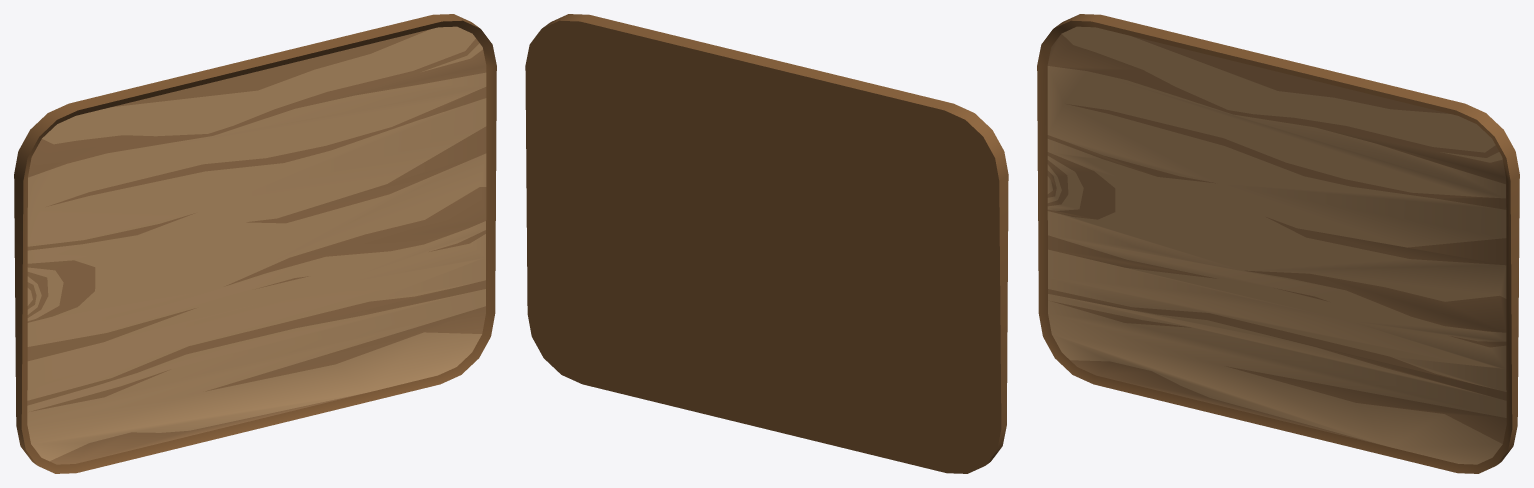
The model's file is ScoreBoard.fbx.
3 views of the same model, side by side, from view 1: azimuth 30°, elevation 25°; view 2: azimuth 150°, elevation 25°; view 3: azimuth 330°, elevation 25° (orthographic).
Parts seen in each view (by area): view 1: ScoreBoard; view 2: ScoreBoard; view 3: ScoreBoard.
Boxes of the visible parts, x1=… form: ScoreBoard: x1=14, y1=14, x2=496, y2=473; ScoreBoard: x1=525, y1=14, x2=1008, y2=473; ScoreBoard: x1=1037, y1=14, x2=1519, y2=473.
Bounding box in the file's own units: 633 × 21.43 × 465.
1 material, 1 textured.
